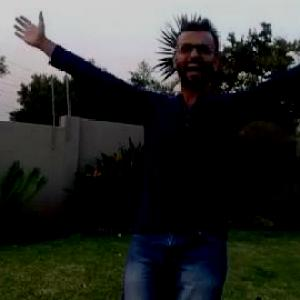takeoff: (19, 19, 299, 299)
